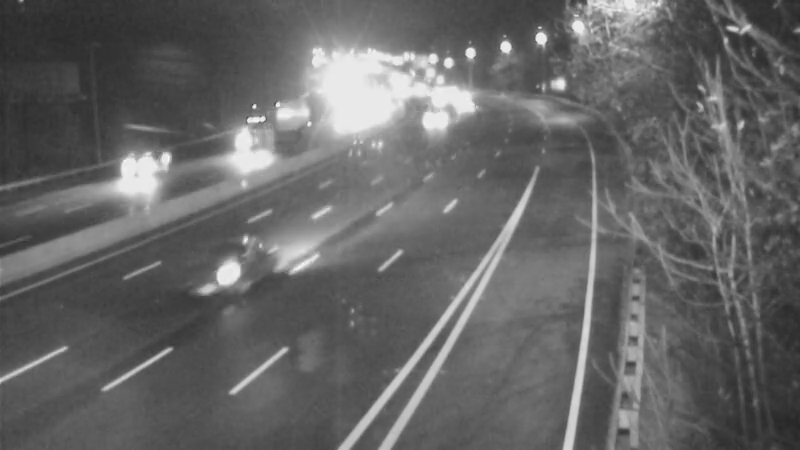vehicle: (172, 236, 252, 316), (91, 129, 171, 209), (408, 74, 458, 124), (440, 84, 490, 134), (406, 92, 456, 142), (222, 119, 272, 169)
